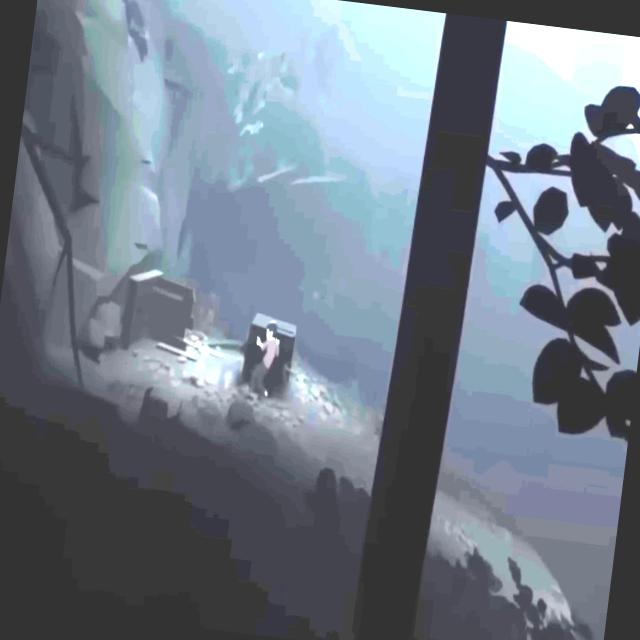boy: (251, 319, 282, 400)
